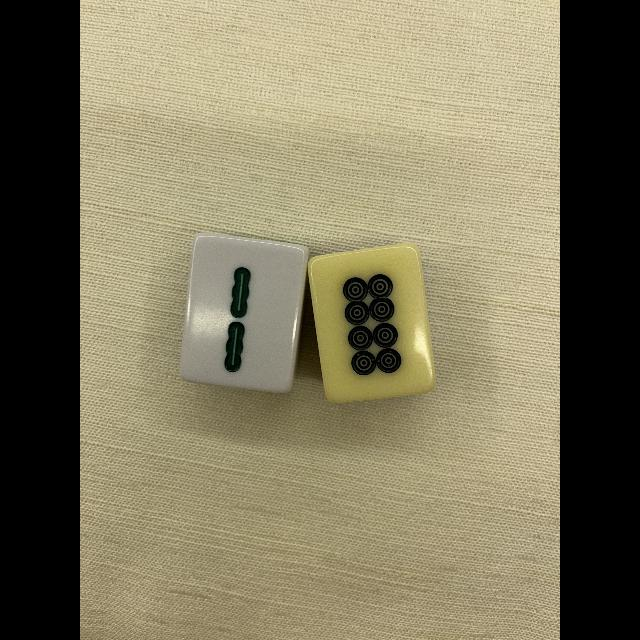b2: (188, 239, 296, 385)
d8: (318, 251, 426, 397)
